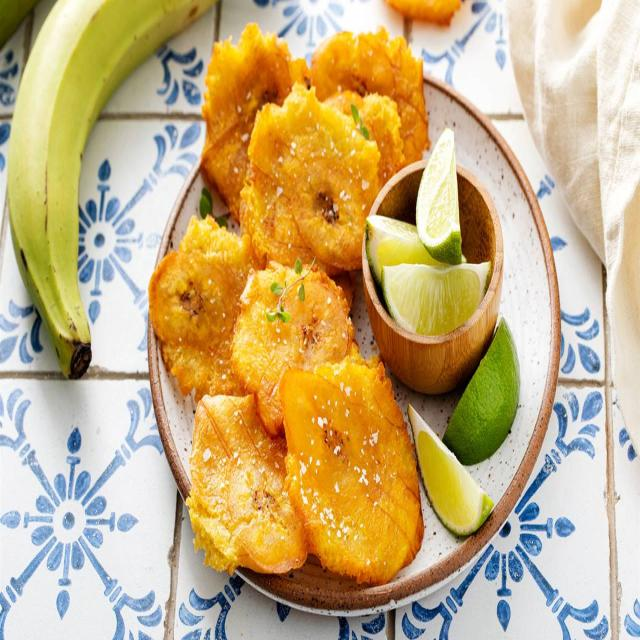platano: (271, 347, 433, 586), (240, 90, 378, 284), (199, 23, 309, 226)
